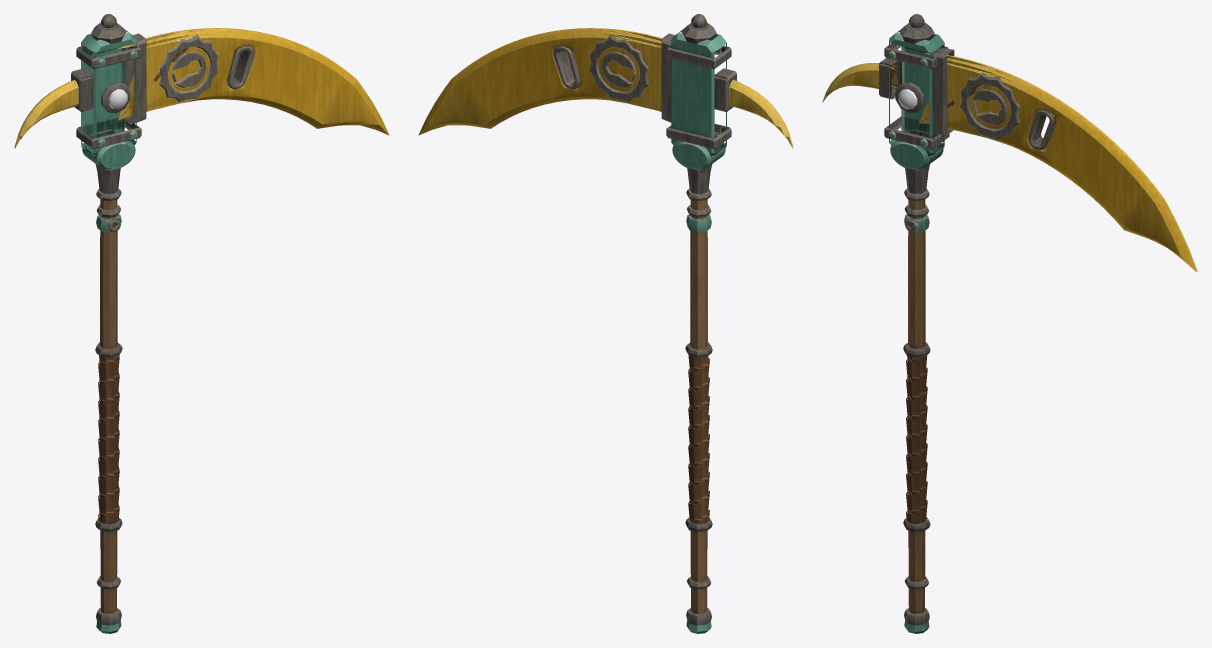
Rendered from Rustharvest.fbx.
3 views of the same model, side by side, from view 1: azimuth 30°, elevation 25°; view 2: azimuth 150°, elevation 25°; view 3: azimuth 330°, elevation 25° (orthographic).
Visible parts, largest first — view 1: Rustharvest_Body; view 2: Rustharvest_Body; view 3: Rustharvest_Body.
Part boxes in pixels (x1,y1,x2,y2): Rustharvest_Body: [14, 14, 389, 633]; Rustharvest_Body: [418, 14, 793, 633]; Rustharvest_Body: [822, 14, 1197, 633].
Bounding box in the file's own units: 4.03 × 6.33 × 0.39.
